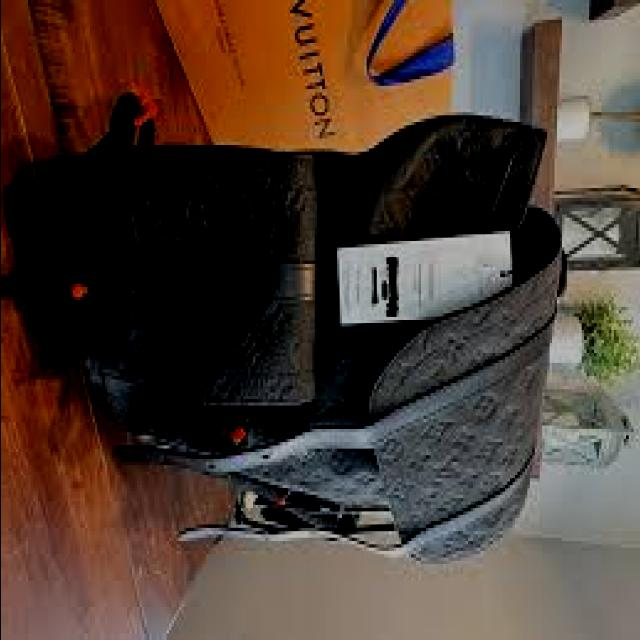backpack: (22, 86, 582, 587)
